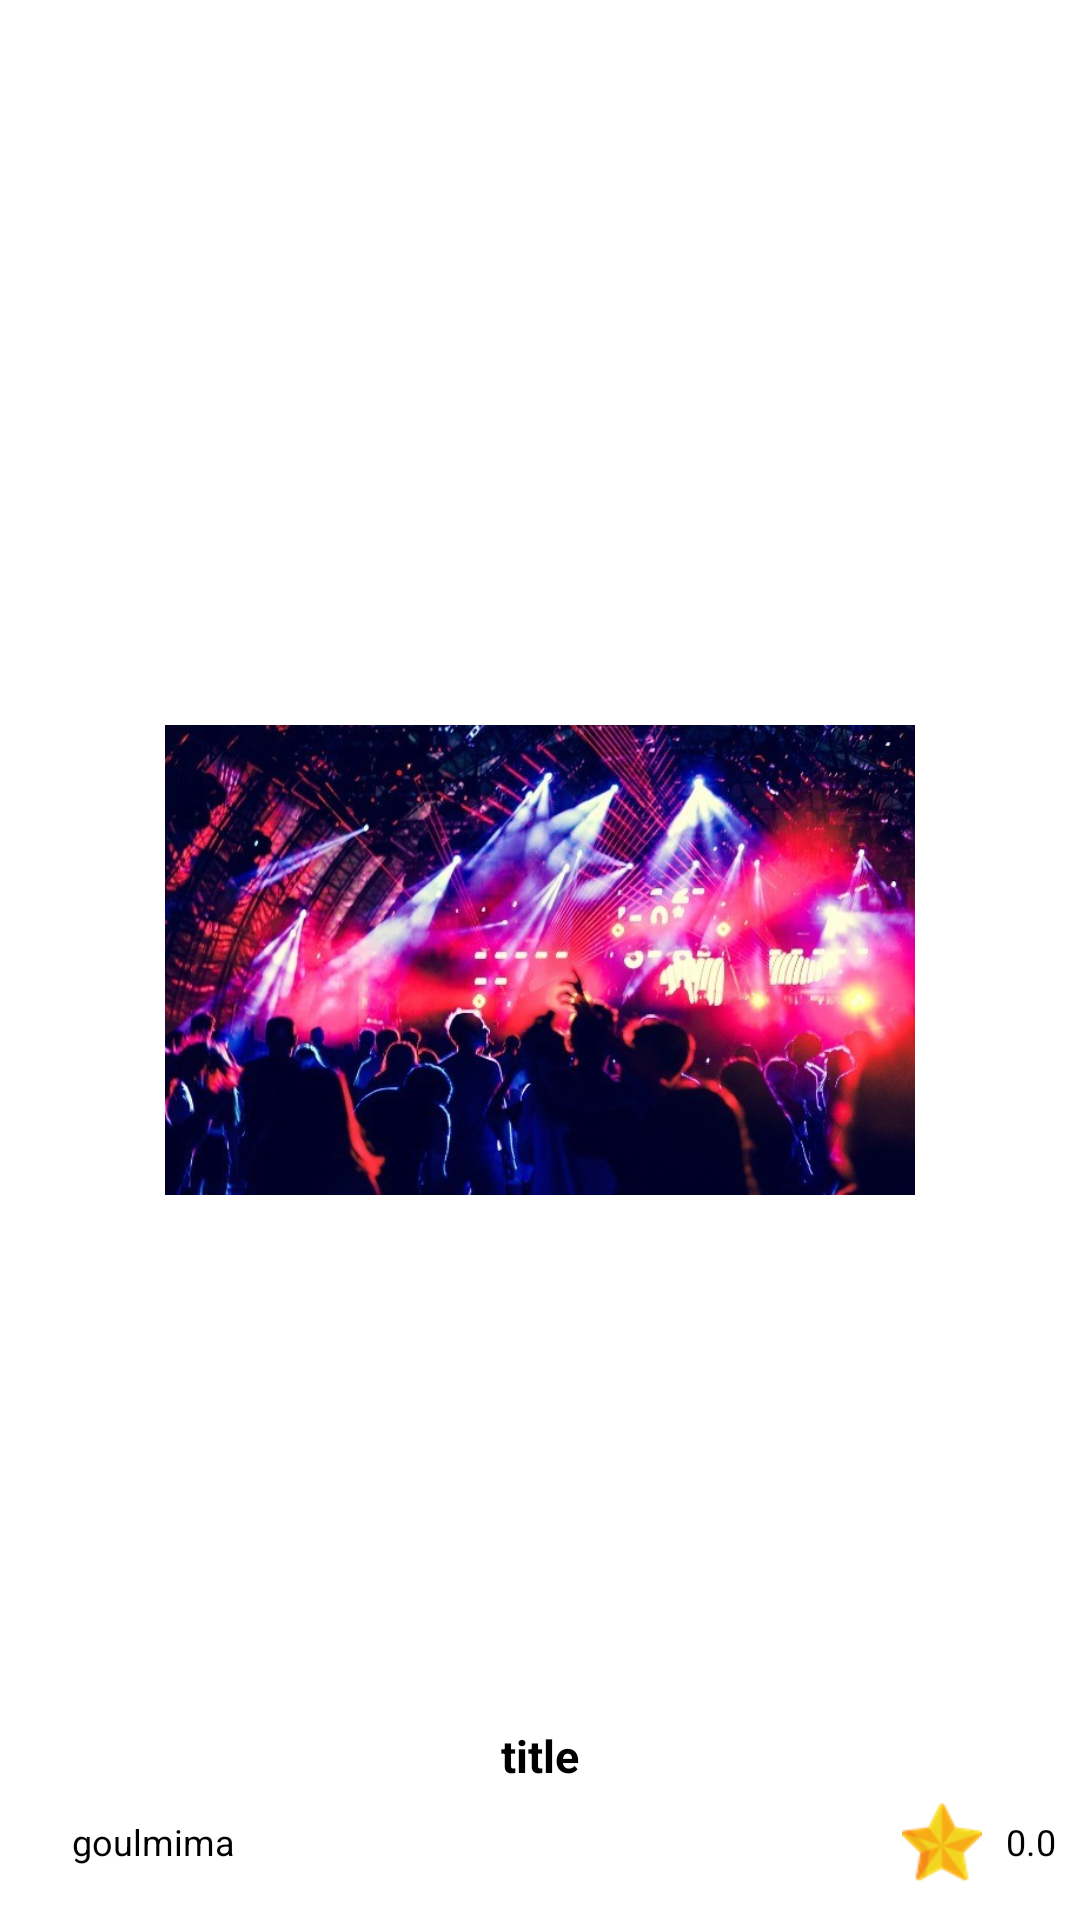

Icon bounding boxes for this 1080 x 1920 phone screenshot, format (x1, y1, x2, y2):
star: (902, 1803, 982, 1881)
